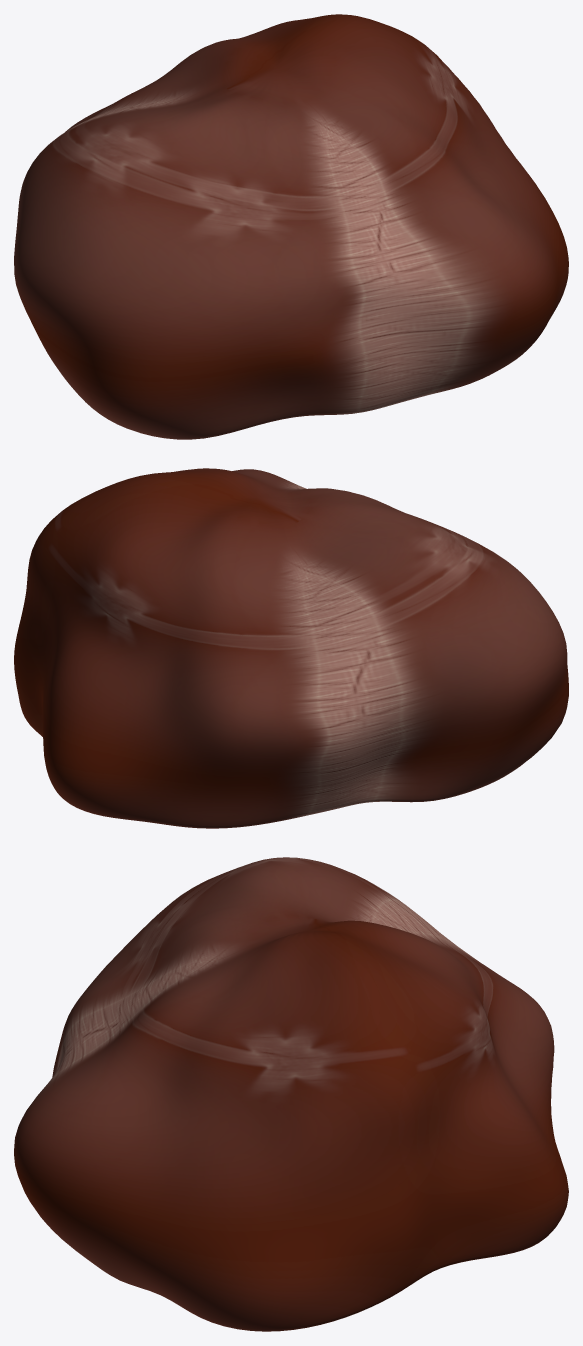
Rendered from roof.obj.
3 renders of one model, top to bottom at view 1: azimuth 30°, elevation 25°; view 2: azimuth 150°, elevation 25°; view 3: azimuth 270°, elevation 25°, orthographic. The views are drawn at different scales.
Parts seen in each view (by area): view 1: roof; view 2: roof; view 3: roof.
Part boxes in pixels (bbox=[...]): roof: bbox=[14, 14, 568, 439]; roof: bbox=[14, 468, 568, 828]; roof: bbox=[14, 857, 568, 1331].
Size of the model in its own units: 10.07 by 5.11 by 8.73.
